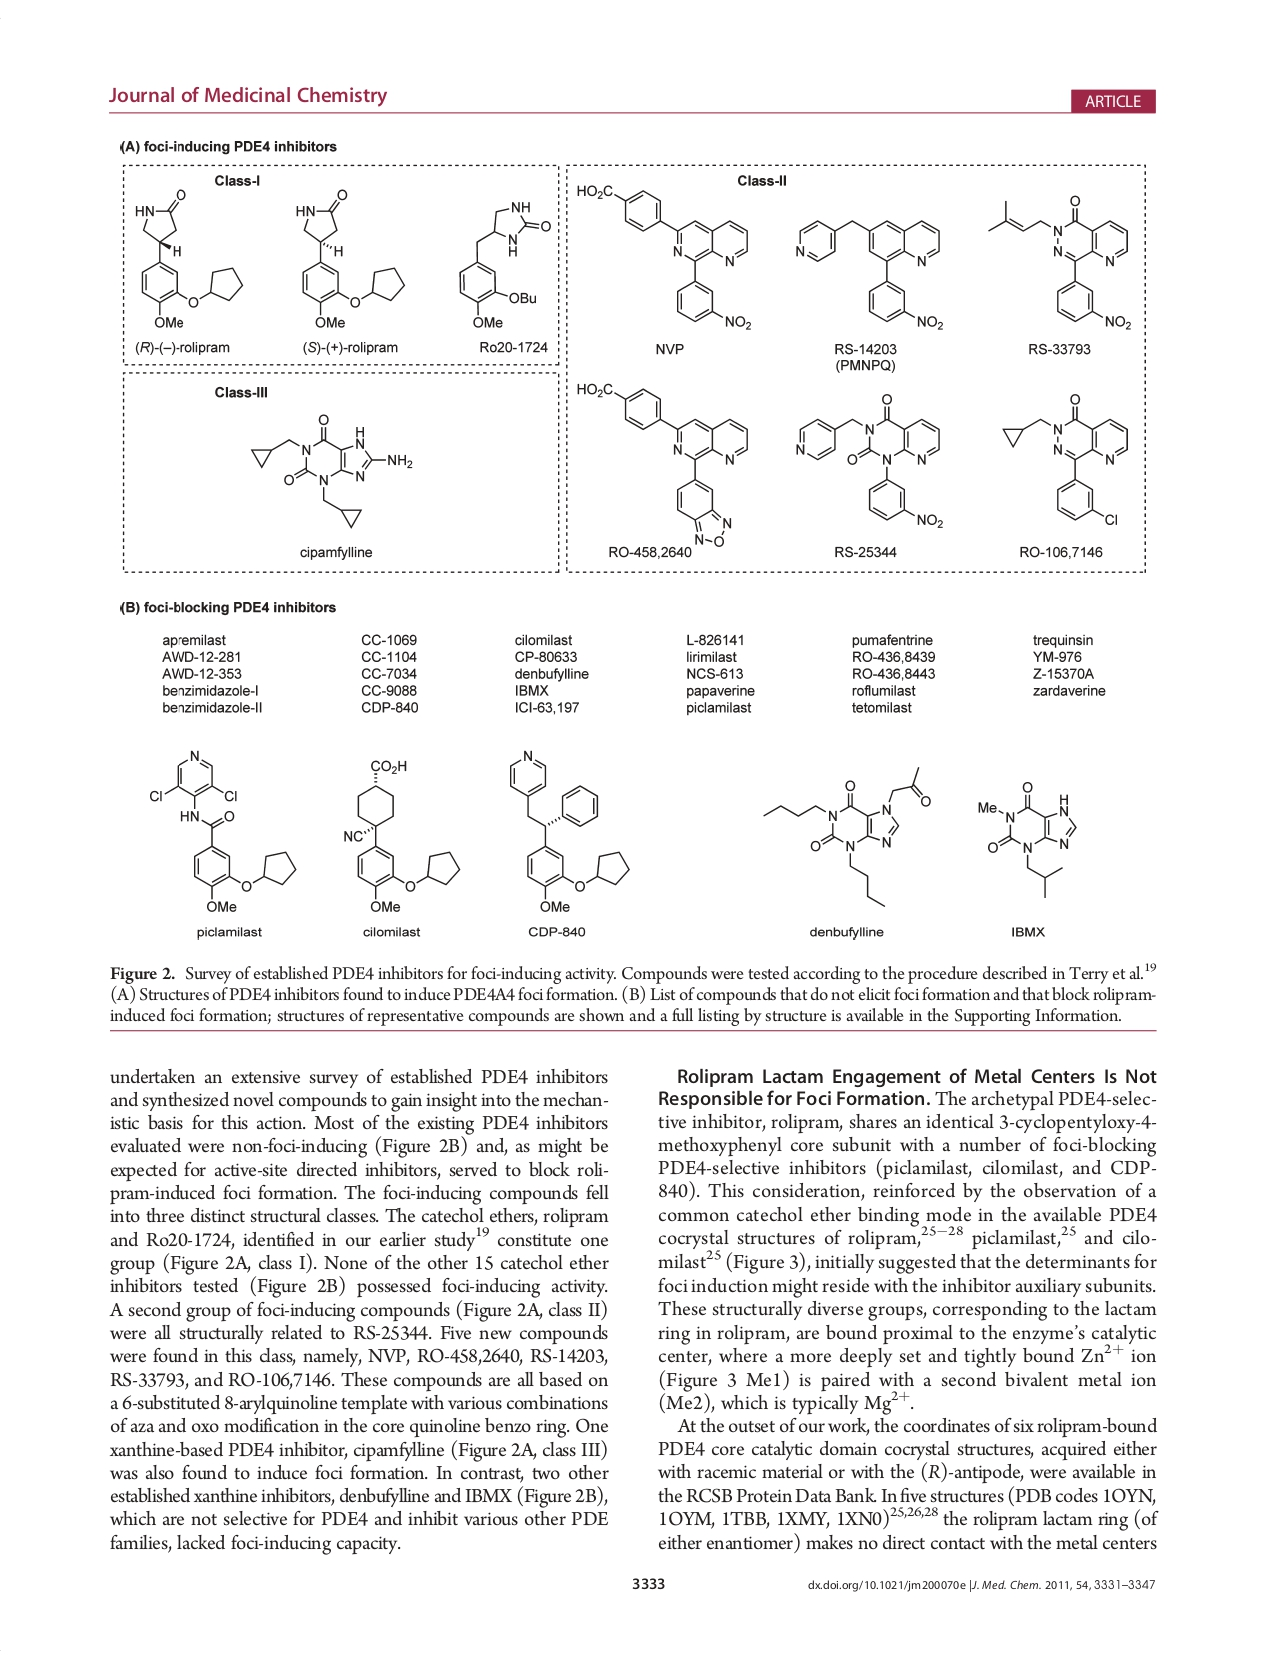exist_molecular: (574, 375, 750, 547), (574, 180, 755, 331), (757, 759, 935, 911), (148, 746, 298, 915), (984, 190, 1137, 335), (505, 741, 630, 918), (793, 391, 949, 531), (243, 410, 414, 532), (793, 205, 949, 332), (342, 751, 461, 914), (997, 391, 1134, 532), (132, 188, 246, 331), (293, 186, 406, 330), (969, 775, 1081, 906), (455, 198, 553, 330)
